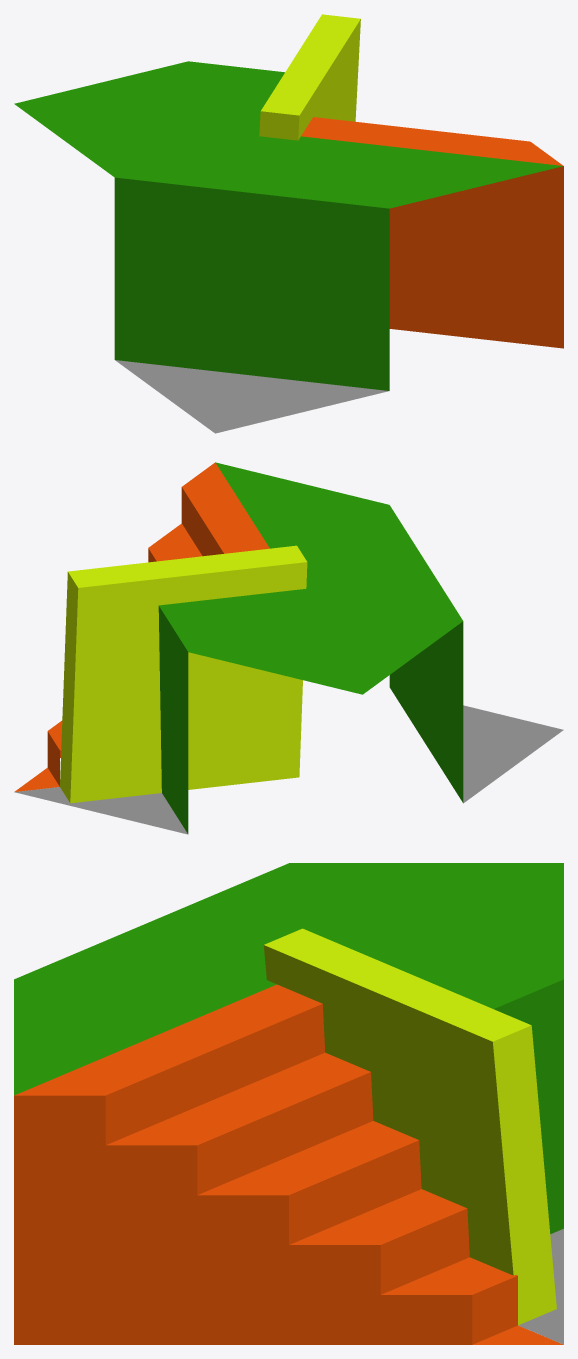
3 renders of one model, top to bottom at view 1: azimuth 30°, elevation 25°; view 2: azimuth 150°, elevation 25°; view 3: azimuth 270°, elevation 25°, orthographic. The views are drawn at different scales.
Visible parts, largest first — view 1: T_a_4_1; view 2: T_a_4_1; view 3: T_a_4_1.
Boxes of the visible parts, <box> form: T_a_4_1: <box>14,14,563,433</box>; T_a_4_1: <box>14,462,563,834</box>; T_a_4_1: <box>14,863,563,1344</box>.
Size of the model in its own units: 99.81 by 56.97 by 99.81.
